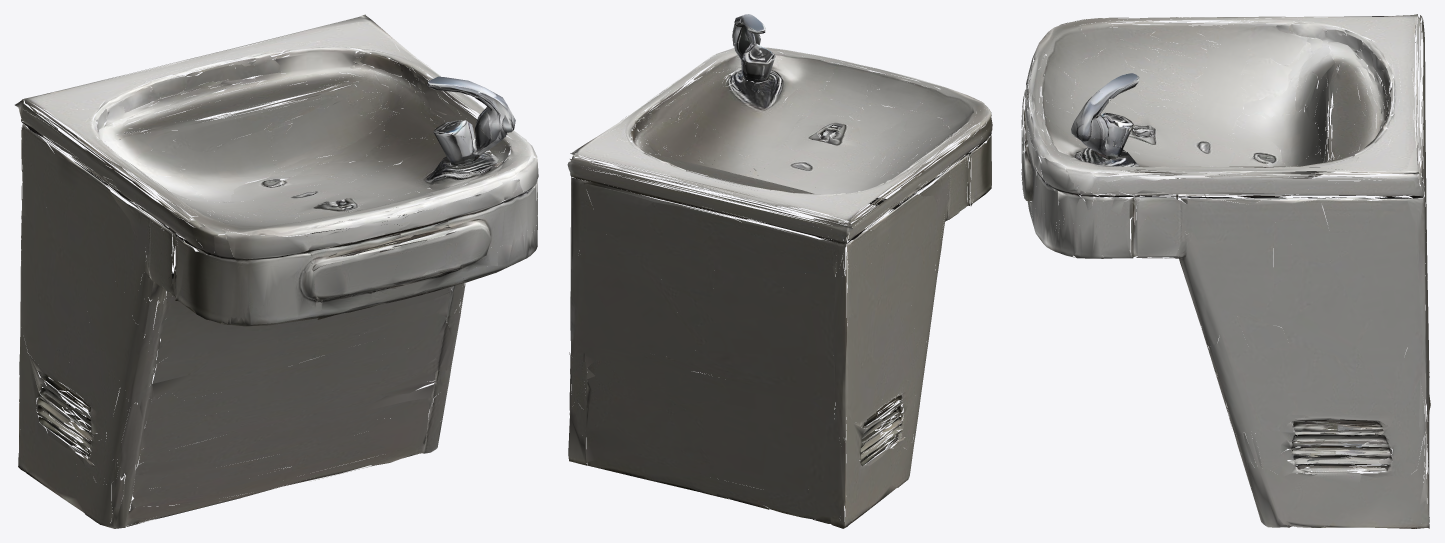
The model's file is prop_drinking_fountain.glb.
3 views of the same model, side by side, from view 1: azimuth 30°, elevation 25°; view 2: azimuth 150°, elevation 25°; view 3: azimuth 270°, elevation 25° (orthographic). The views are drawn at different scales.
Parts seen in each view (by area): view 1: Object_5; view 2: Object_5; view 3: Object_5.
Boxes of the visible parts, <box> form: Object_5: <box>15,14,538,528</box>; Object_5: <box>567,14,992,528</box>; Object_5: <box>1021,14,1430,528</box>.
Bounding box in the file's own units: 1.57 × 1.88 × 1.66.
1 material, 1 textured.
